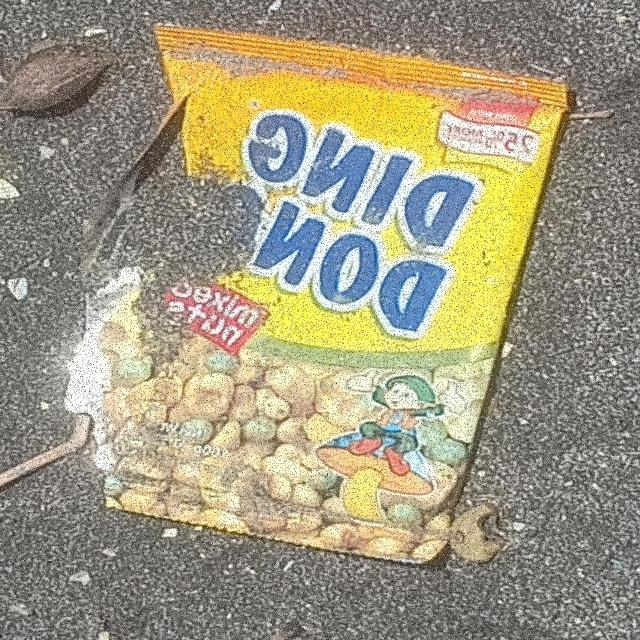plastic_waste: (61, 25, 577, 568)
